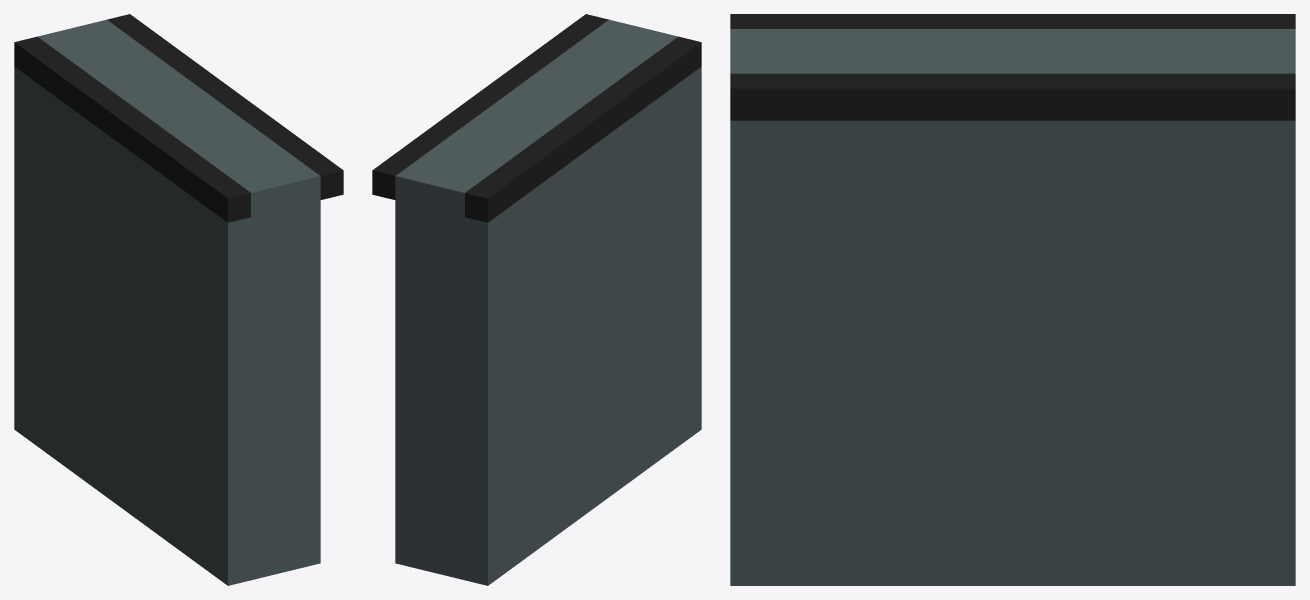
Rendered from BombBoxEdge.obj.
3 views of the same model, side by side, from view 1: azimuth 30°, elevation 25°; view 2: azimuth 150°, elevation 25°; view 3: azimuth 270°, elevation 25° (orthographic). The views are drawn at different scales.
Bounding box in the file's own units: 0.5 × 1.6 × 1.6.
1 material, 1 textured.
